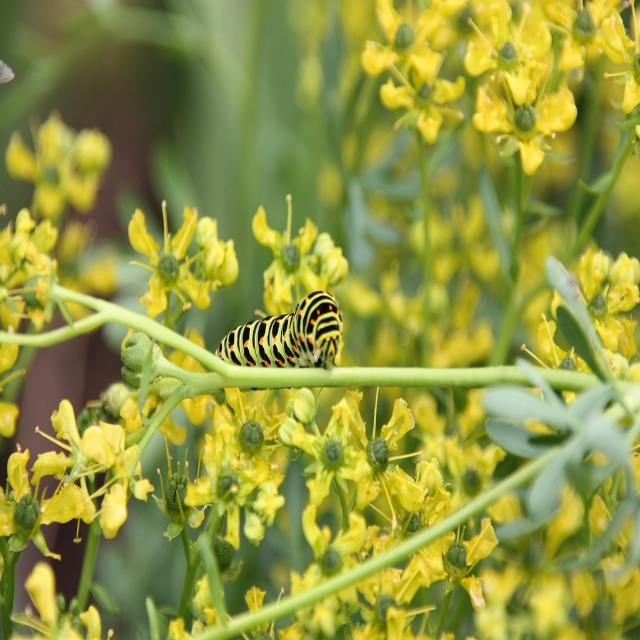Caterpillar: (215, 290, 344, 372)
